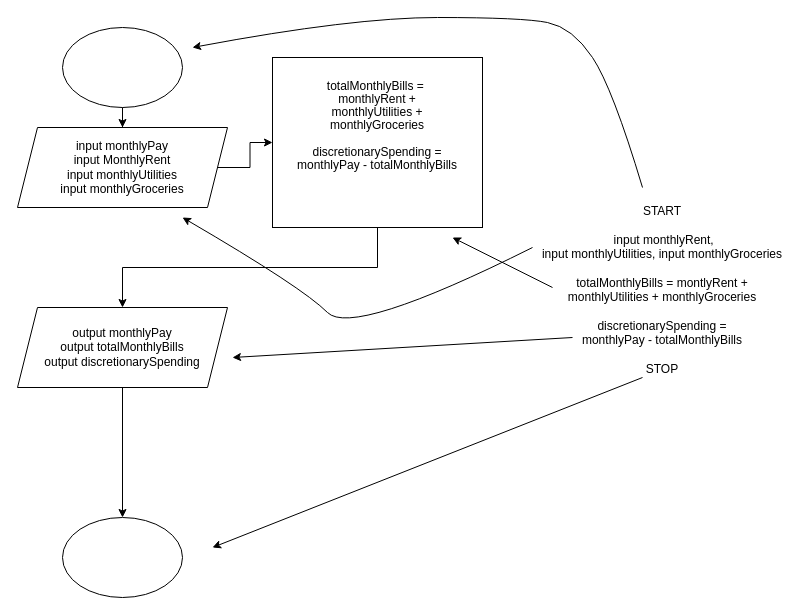
Image size: 810x615. Some labels were removed from this diagram. The centre of each missing label's shape, as x and y in pixels:
"START" goes at point (122, 67).
"STOP" goes at point (122, 557).
